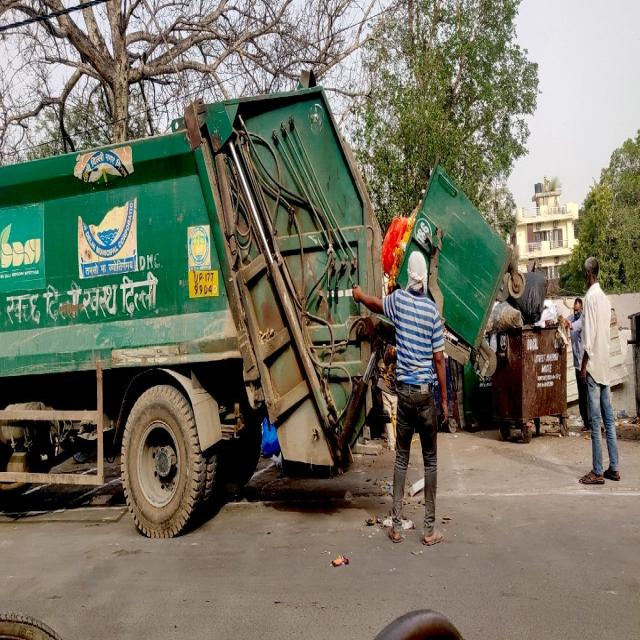truck: (0, 87, 381, 532)
